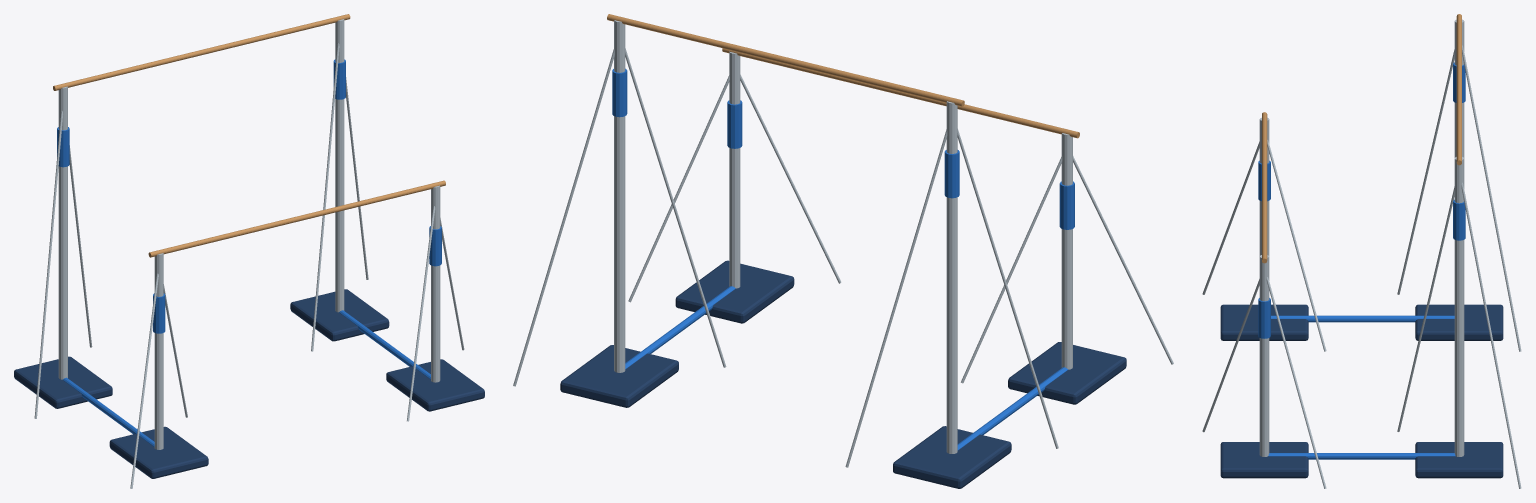
The model's file is uneven_bars.glb.
The picture shows the model from 3 angles, left to right: view 1: azimuth 30°, elevation 25°; view 2: azimuth 150°, elevation 25°; view 3: azimuth 270°, elevation 25°; orthographic projection. The views are drawn at different scales.
Visible parts, largest first — view 1: uneven_bars; view 2: uneven_bars; view 3: uneven_bars.
Boxes of the visible parts, x1,y1,x2,y2 form: uneven_bars: (14,14,484,488); uneven_bars: (513,14,1173,488); uneven_bars: (1202,14,1521,488).
Size of the model in its own units: 3.42 by 2.52 by 2.36.
